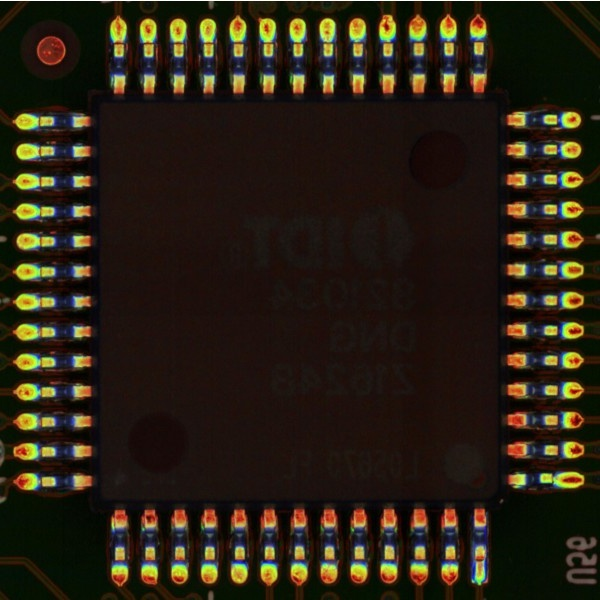Bad_podu: (475, 555, 485, 571)
